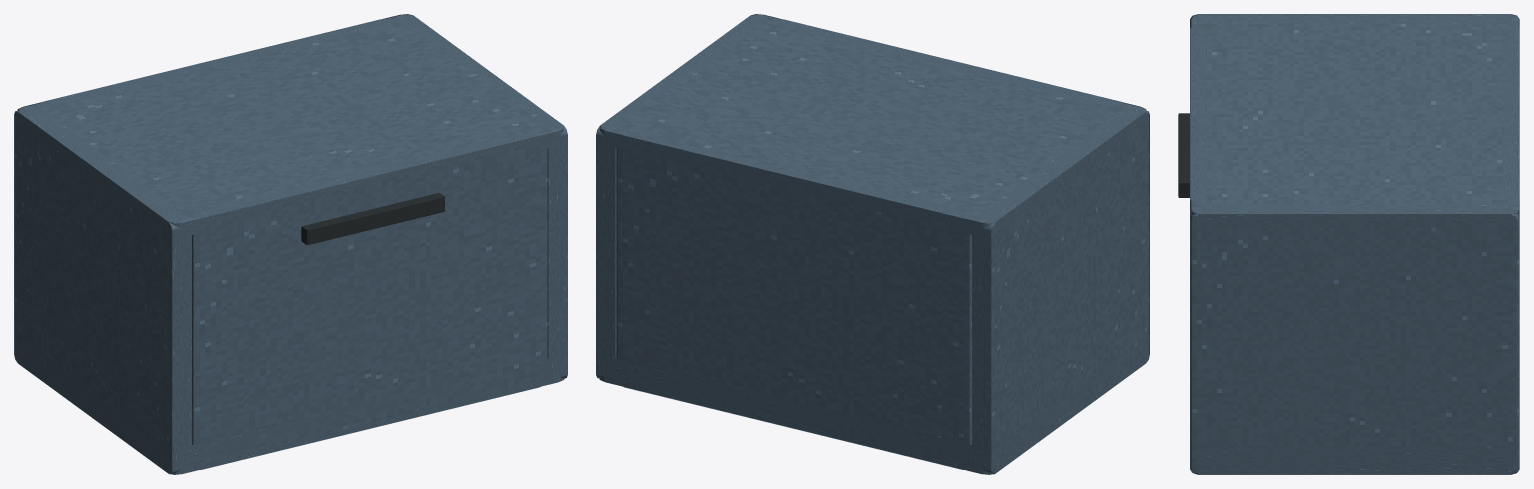
Rendered from tote.glb.
3 views of the same model, side by side, from view 1: azimuth 30°, elevation 25°; view 2: azimuth 150°, elevation 25°; view 3: azimuth 270°, elevation 25° (orthographic). The views are drawn at different scales.
Parts seen in each view (by area): view 1: edge (×2), lid, side (×2), bottom, grip; view 2: edge (×2), lid, side (×2), bottom; view 3: side (×2), lid, bottom, edge (×2), grip.
Boxes of the visible parts, <box> form: edge (×2): <box>41,19,548,469</box>; lid: <box>17,14,564,237</box>; side (×2): <box>14,15,567,474</box>; bottom: <box>17,337,564,474</box>; grip: <box>301,193,444,244</box>; edge (×2): <box>615,19,1122,469</box>; lid: <box>599,14,1146,236</box>; side (×2): <box>596,15,1149,474</box>; bottom: <box>599,337,1146,474</box>; side (×2): <box>1190,14,1519,474</box>; lid: <box>1190,14,1519,229</box>; bottom: <box>1190,447,1519,474</box>; edge (×2): <box>1190,28,1519,200</box>; grip: <box>1178,113,1189,197</box>.
Size of the model in its own units: 0.46 by 0.28 by 0.3312.
2 materials, 2 textured.
